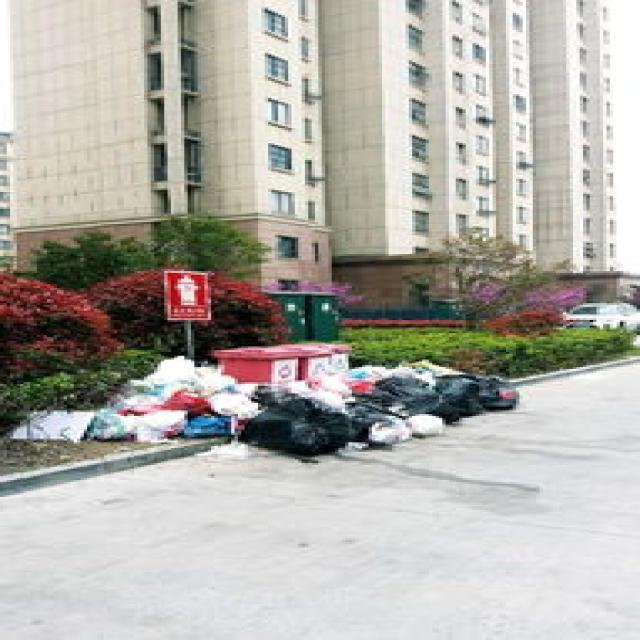garbage: (10, 354, 516, 455)
garbage_bin: (208, 344, 305, 380), (295, 341, 352, 378)
